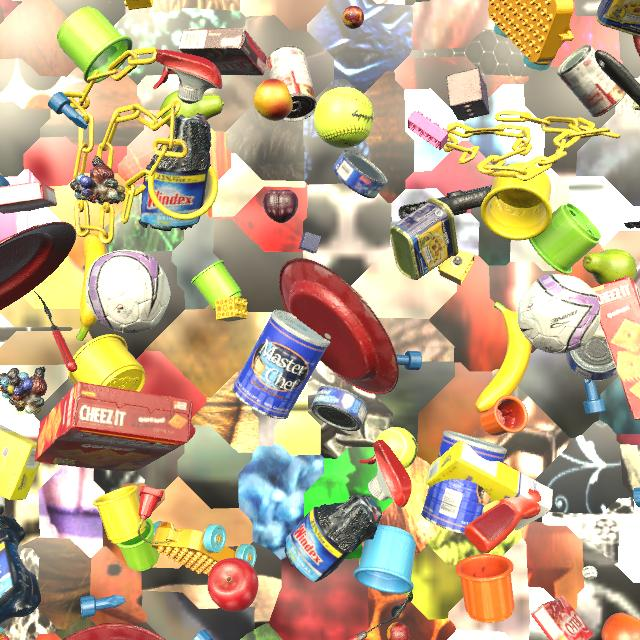ycb_002_master_chef_can: (232, 310, 330, 419), (421, 430, 507, 535)
ycb_003_cracker_box: (35, 381, 193, 472), (591, 276, 640, 420)
ycb_004_sugar_box: (426, 440, 553, 531), (0, 424, 41, 500), (593, 324, 605, 337)
ycb_005_tomato_soup_can: (557, 44, 626, 117), (267, 46, 317, 122)
ycb_007_tuna_fish_can: (333, 149, 388, 199), (311, 385, 369, 431), (566, 336, 617, 381)
ycb_008_pudding_box: (178, 28, 267, 76)
ycb_009_gelatin_box: (531, 595, 594, 640), (0, 182, 57, 214), (0, 636, 10, 640)
ycb_010_potted_meat_can: (390, 197, 458, 280), (596, 0, 640, 37)
ycb_011_banana: (475, 302, 532, 413), (76, 235, 108, 341)
ycb_012_strawberry: (189, 423, 196, 440)
ycb_013_apple: (207, 558, 259, 612)
ycb_015_peach: (253, 79, 293, 121)
ycb_016_pear: (160, 90, 224, 127), (583, 249, 637, 285)
ycb_017_orange: (601, 613, 640, 640)
ycb_018_plum: (263, 190, 298, 223)
